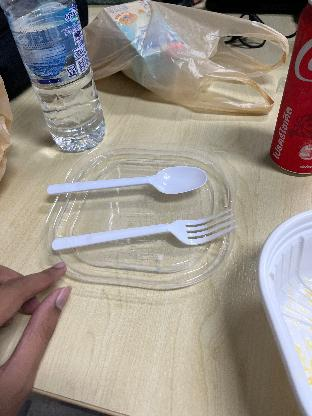Others: (48, 206, 240, 254), (41, 167, 213, 195)
Plastic Bottle: (9, 0, 107, 156)
